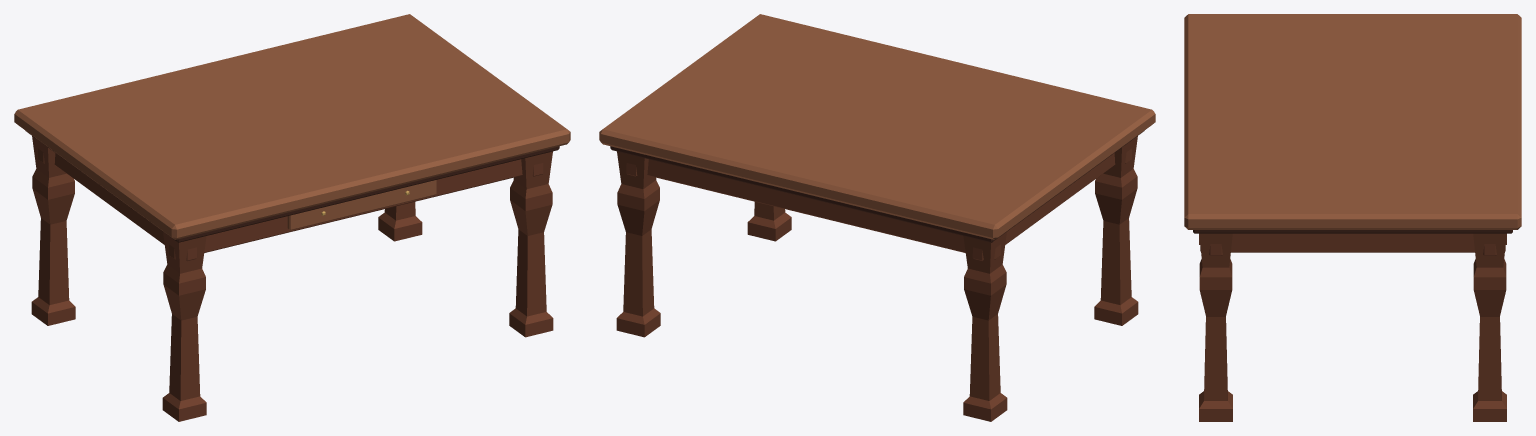
Rendered from table_07.glb.
The picture shows the model from 3 angles, left to right: view 1: azimuth 30°, elevation 25°; view 2: azimuth 150°, elevation 25°; view 3: azimuth 270°, elevation 25°; orthographic projection. The views are drawn at different scales.
Parts seen in each view (by area): view 1: Top, Leg_0_0, Leg_1_0, Leg_0_1, Aprons, FrontDrawer, TopUndercut, Leg_1_1; view 2: Top, Aprons, Leg_0_1, Leg_1_1, Leg_0_0, TopUndercut, Leg_1_0; view 3: Top, Aprons, Leg_1_0, Leg_1_1, TopUndercut.
Boxes of the visible parts, left/top/right/bottom form: Top: left=14, top=14, right=570, bottom=239; Leg_0_0: left=162, top=232, right=206, bottom=421; Leg_1_0: left=509, top=151, right=553, bottom=337; Leg_0_1: left=31, top=136, right=75, bottom=325; Aprons: left=38, top=148, right=543, bottom=260; FrontDrawer: left=287, top=180, right=436, bottom=230; TopUndercut: left=25, top=130, right=559, bottom=242; Leg_1_1: left=378, top=202, right=422, bottom=241; Top: left=599, top=14, right=1155, bottom=239; Aprons: left=626, top=148, right=1131, bottom=260; Leg_0_1: left=963, top=232, right=1007, bottom=421; Leg_1_1: left=616, top=151, right=660, bottom=337; Leg_0_0: left=1094, top=136, right=1138, bottom=325; TopUndercut: left=610, top=130, right=1144, bottom=242; Leg_1_0: left=747, top=202, right=791, bottom=241; Top: left=1184, top=14, right=1521, bottom=229; Aprons: left=1200, top=233, right=1505, bottom=255; Leg_1_0: left=1199, top=233, right=1232, bottom=421; Leg_1_1: left=1473, top=233, right=1506, bottom=421; TopUndercut: left=1193, top=230, right=1512, bottom=233.
Size of the model in its own units: 1.5 by 0.73 by 1.05.
